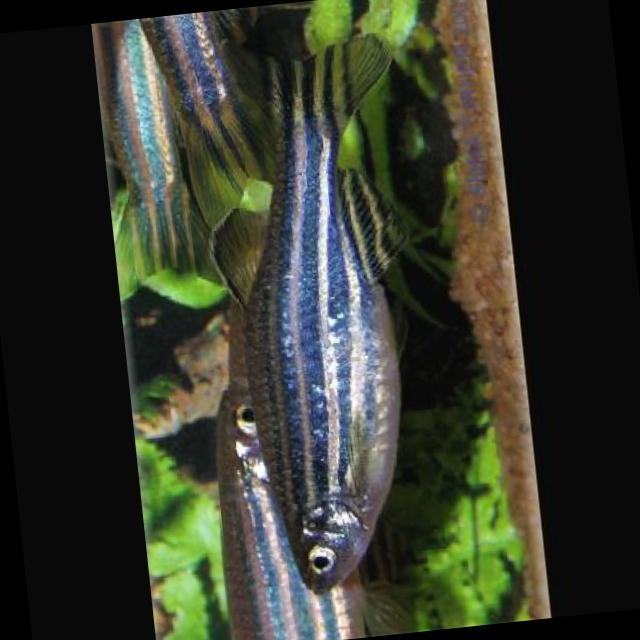ZebraFish: (186, 17, 443, 606)
